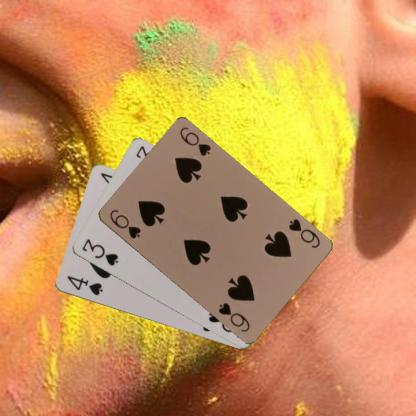3s: (78, 236, 119, 268)
4s: (64, 273, 104, 297)
6s: (106, 207, 142, 240), (286, 216, 322, 249)
